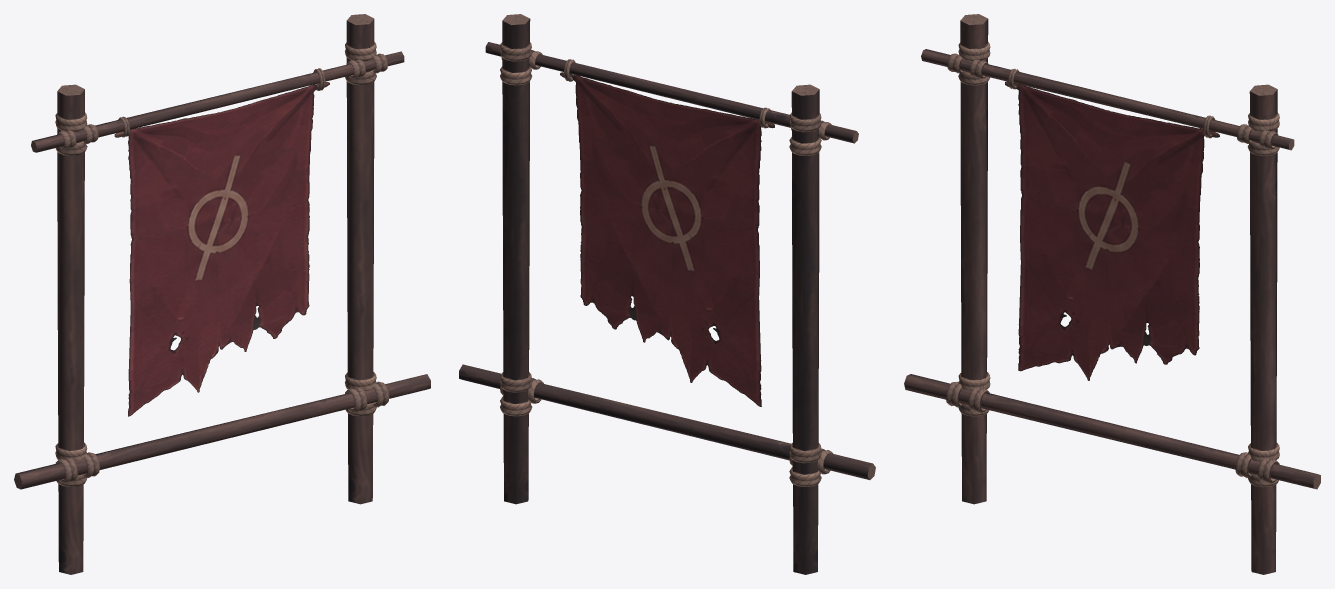
File: Flag_b.FBX
3 views of the same model, side by side, from view 1: azimuth 30°, elevation 25°; view 2: azimuth 150°, elevation 25°; view 3: azimuth 330°, elevation 25° (orthographic).
Visible parts, largest first — view 1: Object042, Cylinder027; view 2: Object042, Cylinder027; view 3: Object042, Cylinder027.
Part boxes in pixels (left/top/right/bottom): Object042: left=114, top=82, right=329, bottom=416; Cylinder027: left=14, top=14, right=430, bottom=574; Object042: left=560, top=72, right=774, bottom=406; Cylinder027: left=459, top=14, right=875, bottom=574; Object042: left=1005, top=81, right=1219, bottom=380; Cylinder027: left=904, top=14, right=1320, bottom=574.
Size of the model in its own units: 3.82 by 4.27 by 0.3336.
2 materials, 2 textured.
